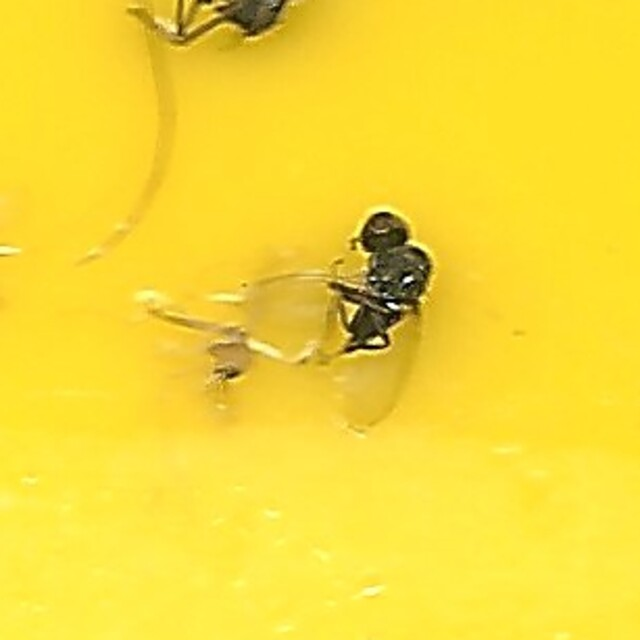Brachycera: (208, 202, 432, 438)
